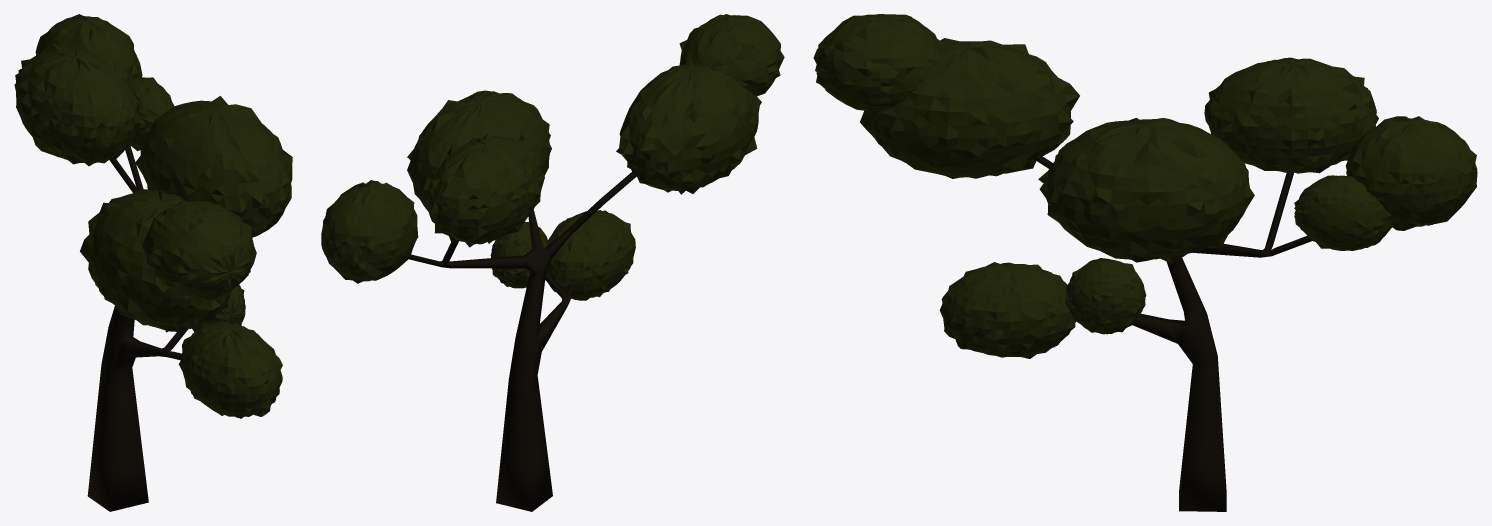
File: drzewo1.obj
3 renders of one model, left to right at view 1: azimuth 30°, elevation 25°; view 2: azimuth 150°, elevation 25°; view 3: azimuth 270°, elevation 25°, orthographic. The views are drawn at different scales.
Visible parts, largest first — view 1: liscie, liscie.001, liscie.003, Cube, liscie.008, liscie.004, liscie.002, liscie.005, liscie.007; view 2: liscie.003, Cube, liscie.001, liscie.002, liscie, liscie.004, liscie.008, liscie.007; view 3: liscie, liscie.003, liscie.001, Cube, liscie.002, liscie.004, liscie.008, liscie.005, liscie.007.
Part boxes in pixels (x1=…): liscie: x1=135, y1=96, x2=292, y2=237; liscie.001: x1=14, y1=43, x2=140, y2=166; liscie.003: x1=80, y1=189, x2=231, y2=332; Cube: x1=87, y1=144, x2=188, y2=511; liscie.008: x1=142, y1=200, x2=256, y2=300; liscie.004: x1=178, y1=321, x2=282, y2=418; liscie.002: x1=35, y1=14, x2=142, y2=85; liscie.005: x1=129, y1=76, x2=174, y2=150; liscie.007: x1=192, y1=285, x2=245, y2=331; liscie.003: x1=616, y1=64, x2=761, y2=194; Cube: x1=409, y1=172, x2=636, y2=511; liscie.001: x1=427, y1=133, x2=544, y2=247; liscie.002: x1=321, y1=180, x2=418, y2=283; liscie: x1=407, y1=90, x2=551, y2=213; liscie.004: x1=547, y1=210, x2=635, y2=300; liscie.008: x1=679, y1=14, x2=784, y2=96; liscie.007: x1=490, y1=221, x2=548, y2=288; liscie: x1=1038, y1=118, x2=1254, y2=263; liscie.003: x1=860, y1=38, x2=1079, y2=178; liscie.001: x1=1204, y1=57, x2=1378, y2=173; Cube: x1=1034, y1=155, x2=1311, y2=511; liscie.002: x1=1345, y1=116, x2=1477, y2=230; liscie.004: x1=939, y1=262, x2=1075, y2=358; liscie.008: x1=813, y1=14, x2=943, y2=114; liscie.005: x1=1294, y1=175, x2=1393, y2=250; liscie.007: x1=1065, y1=258, x2=1146, y2=334.
Size of the model in its own units: 1.74 by 2.76 by 3.71.
